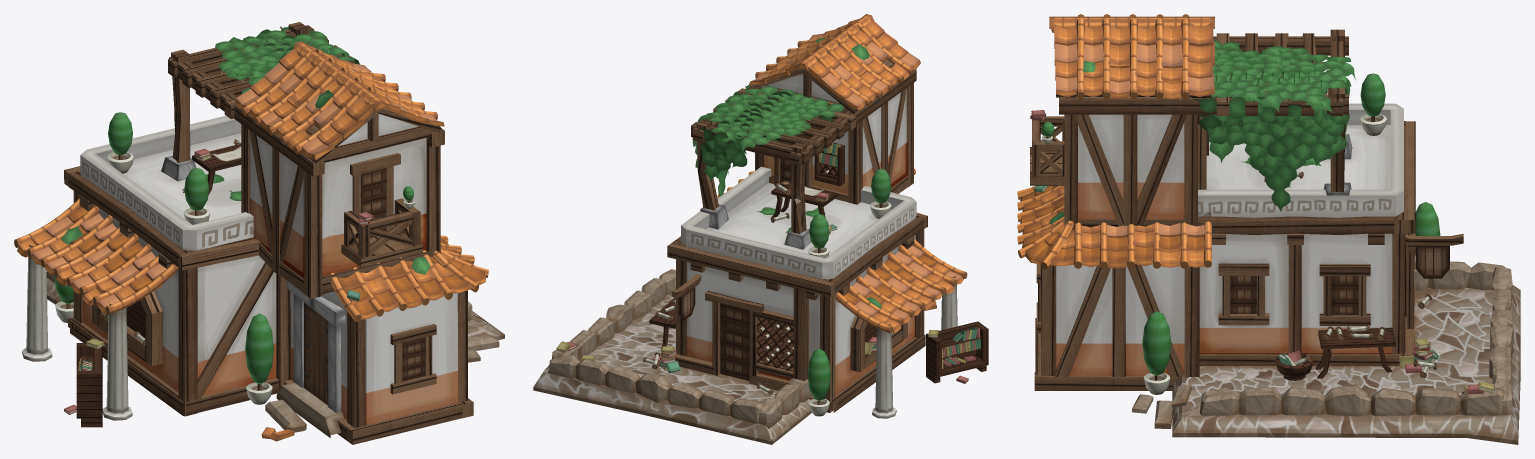
The model's file is bookshop_v1.glb.
3 renders of one model, left to right at view 1: azimuth 30°, elevation 25°; view 2: azimuth 150°, elevation 25°; view 3: azimuth 270°, elevation 25°, orthographic. The views are drawn at different scales.
Visible parts, largest first — view 1: Object012_Material #130_0, Object014_Material #129_0, Box015, Object013_Material #127_0, Box013, Object015_Material #124_0; view 2: Object012_Material #130_0, Object014_Material #129_0, Box013, Object013_Material #127_0, Object015_Material #124_0, Box015, Object016_Material #130_0; view 3: Object012_Material #130_0, Object014_Material #129_0, Box013, Object013_Material #127_0, Box015, Object015_Material #124_0, Object016_Material #130_0.
Part boxes in pixels (x1,y1,x2,y2): Object012_Material #130_0: [46, 22, 499, 444]; Object014_Material #129_0: [14, 41, 488, 441]; Box015: [212, 108, 457, 425]; Object013_Material #127_0: [64, 148, 373, 414]; Box013: [22, 168, 504, 420]; Object015_Material #124_0: [61, 26, 434, 274]; Object012_Material #130_0: [548, 59, 988, 428]; Object014_Material #129_0: [681, 14, 967, 333]; Box013: [533, 159, 957, 444]; Object013_Material #127_0: [556, 143, 980, 395]; Object015_Material #124_0: [692, 37, 881, 307]; Box015: [682, 69, 907, 315]; Object016_Material #130_0: [649, 297, 675, 350]; Object012_Material #130_0: [1030, 29, 1513, 428]; Object014_Material #129_0: [1017, 14, 1403, 269]; Box013: [1172, 276, 1520, 444]; Object013_Material #127_0: [1030, 110, 1493, 394]; Box015: [1056, 97, 1446, 375]; Object015_Material #124_0: [1049, 40, 1355, 225]; Object016_Material #130_0: [1315, 327, 1395, 378].
Bounding box in the file's own units: 3.73 × 2.94 × 3.94.
6 materials, 6 textured.
